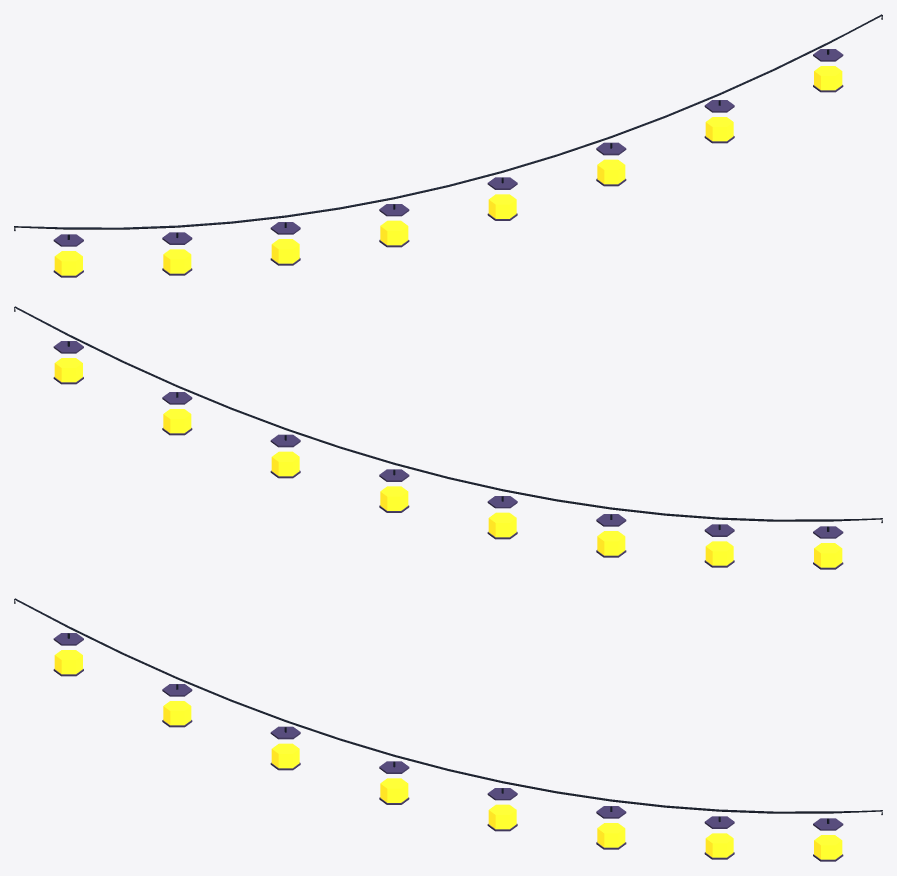
The model's file is city_lantern_string.glb.
The picture shows the model from 3 angles, top to bottom: view 1: azimuth 30°, elevation 25°; view 2: azimuth 150°, elevation 25°; view 3: azimuth 330°, elevation 25°; orthographic projection.
Parts seen in each view (by area): view 1: wire, lantern.003, lantern.005, lantern.001, lantern, lantern.002, lantern.007, lantern.004, lantern.006; view 2: wire, lantern.003, lantern.005, lantern.001, lantern, lantern.002, lantern.007, lantern.004, lantern.006; view 3: wire, lantern.004, lantern.002, lantern.006, lantern, lantern.005, lantern.007, lantern.003, lantern.001.
Part boxes in pixels (x1,y1,x2,y2): wire: [14, 14, 882, 230]; lantern.003: [380, 220, 408, 245]; lantern.005: [597, 159, 625, 184]; lantern.001: [163, 249, 191, 273]; lantern: [54, 251, 82, 275]; lantern.002: [271, 239, 299, 263]; lantern.007: [814, 66, 842, 90]; lantern.004: [488, 194, 516, 218]; lantern.006: [705, 117, 733, 141]; wire: [14, 306, 882, 522]; lantern.003: [488, 512, 516, 537]; lantern.005: [271, 451, 299, 476]; lantern.001: [705, 541, 733, 565]; lantern: [814, 543, 842, 567]; lantern.002: [597, 531, 625, 555]; lantern.007: [54, 358, 82, 382]; lantern.004: [380, 486, 408, 510]; lantern.006: [163, 409, 191, 433]; wire: [14, 598, 882, 814]; lantern.004: [488, 804, 516, 829]; lantern.002: [271, 743, 299, 768]; lantern.006: [705, 833, 733, 857]; lantern: [54, 650, 82, 674]; lantern.005: [597, 823, 625, 847]; lantern.007: [814, 835, 842, 859]; lantern.003: [380, 778, 408, 802]; lantern.001: [163, 701, 191, 725].
Size of the model in its own units: 10 by 1.19 by 0.3.
